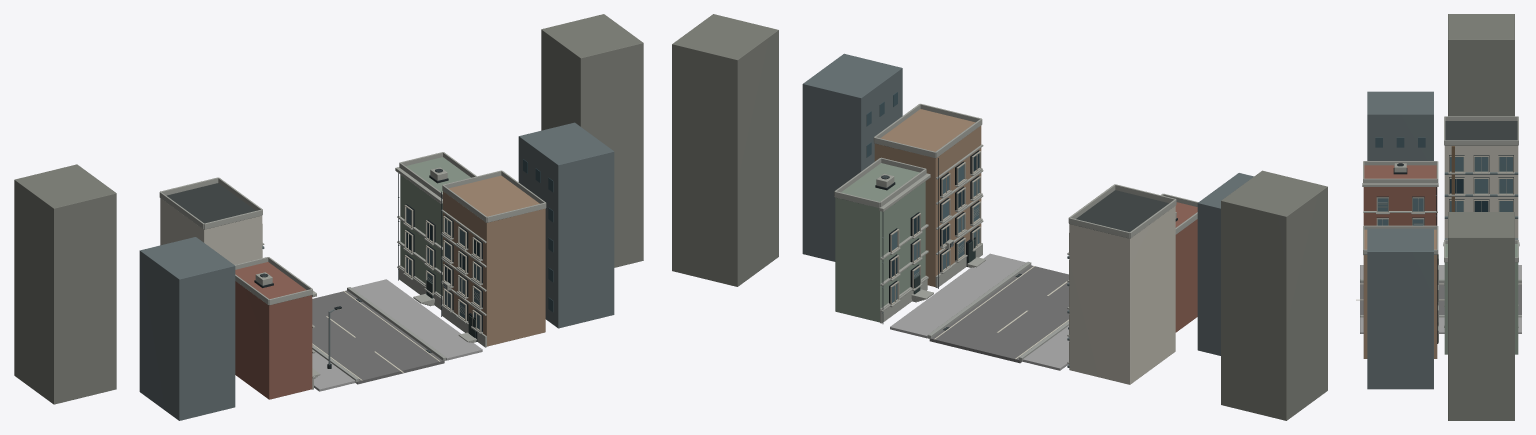
Rendered from city_hd_12.glb.
3 views of the same model, side by side, from view 1: azimuth 30°, elevation 25°; view 2: azimuth 150°, elevation 25°; view 3: azimuth 270°, elevation 25° (orthographic). The views are drawn at different scales.
Visible parts, largest first — view 1: CITY_distant_1, CITY_distant_0, Masonry apartment volume, Narrow townhouse volume, CITY_trim, CITY_PBR_asphalt, CITY_PBR_pavement, Narrow townhouse volume.001, Modern apartment main volume, CITY_frame, CITY_roof, CITY_glass (+2 smaller); view 2: CITY_distant_1, CITY_distant_0, Modern apartment main volume, Narrow townhouse volume.001, CITY_trim, CITY_PBR_asphalt, Masonry apartment volume, CITY_PBR_pavement, Narrow townhouse volume, CITY_frame, CITY_roof, CITY_glass (+2 smaller); view 3: CITY_distant_1, CITY_distant_0, Narrow townhouse volume, CITY_trim, Modern apartment main volume, CITY_glass, CITY_roof, CITY_frame, Masonry apartment volume, Narrow townhouse volume.001, CITY_recess, CITY_PBR_asphalt (+5 smaller).
Part boxes in pixels (x1,y1,x2,y2): CITY_distant_1: [14, 14, 643, 404]; CITY_distant_0: [139, 122, 614, 420]; Masonry apartment volume: [443, 175, 545, 346]; Narrow townhouse volume: [235, 262, 312, 399]; CITY_trim: [159, 152, 546, 389]; CITY_PBR_asphalt: [312, 290, 444, 384]; CITY_PBR_pavement: [312, 279, 482, 391]; Narrow townhouse volume.001: [400, 157, 470, 295]; Modern apartment main volume: [160, 198, 262, 264]; CITY_frame: [262, 205, 481, 331]; CITY_roof: [167, 183, 487, 305]; CITY_glass: [406, 207, 479, 329]; CITY_distant_1: [672, 14, 1327, 420]; CITY_distant_0: [802, 53, 1253, 355]; Modern apartment main volume: [1069, 206, 1175, 384]; Narrow townhouse volume.001: [835, 163, 925, 322]; CITY_trim: [834, 103, 1198, 363]; CITY_PBR_asphalt: [929, 265, 1069, 363]; Masonry apartment volume: [874, 109, 981, 286]; CITY_PBR_pavement: [890, 253, 1069, 370]; Narrow townhouse volume: [1175, 202, 1197, 332]; CITY_frame: [890, 151, 1069, 361]; CITY_roof: [935, 158, 1168, 238]; CITY_glass: [892, 165, 979, 302]; CITY_distant_1: [1448, 14, 1514, 420]; CITY_distant_0: [1367, 91, 1433, 389]; Narrow townhouse volume: [1363, 165, 1437, 225]; CITY_trim: [1362, 116, 1519, 327]; Modern apartment main volume: [1444, 145, 1518, 238]; CITY_glass: [1377, 157, 1512, 342]; CITY_roof: [1364, 121, 1517, 254]; CITY_frame: [1376, 155, 1513, 343]; Masonry apartment volume: [1363, 229, 1437, 358]; Narrow townhouse volume.001: [1444, 244, 1518, 354]; CITY_recess: [1377, 155, 1513, 343]; CITY_PBR_asphalt: [1360, 282, 1521, 314].
Bounding box in the file's own units: 56.65 × 20.26 × 16.4.
